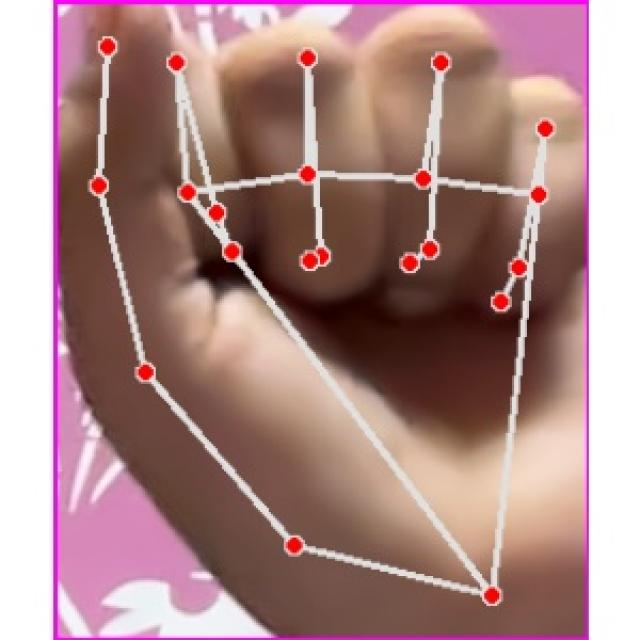A: (63, 4, 587, 635)
